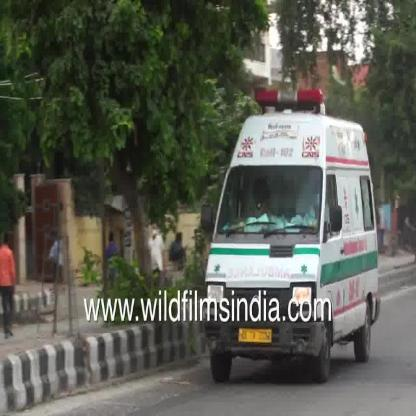priority: (202, 83, 390, 293), (203, 334, 388, 382)
